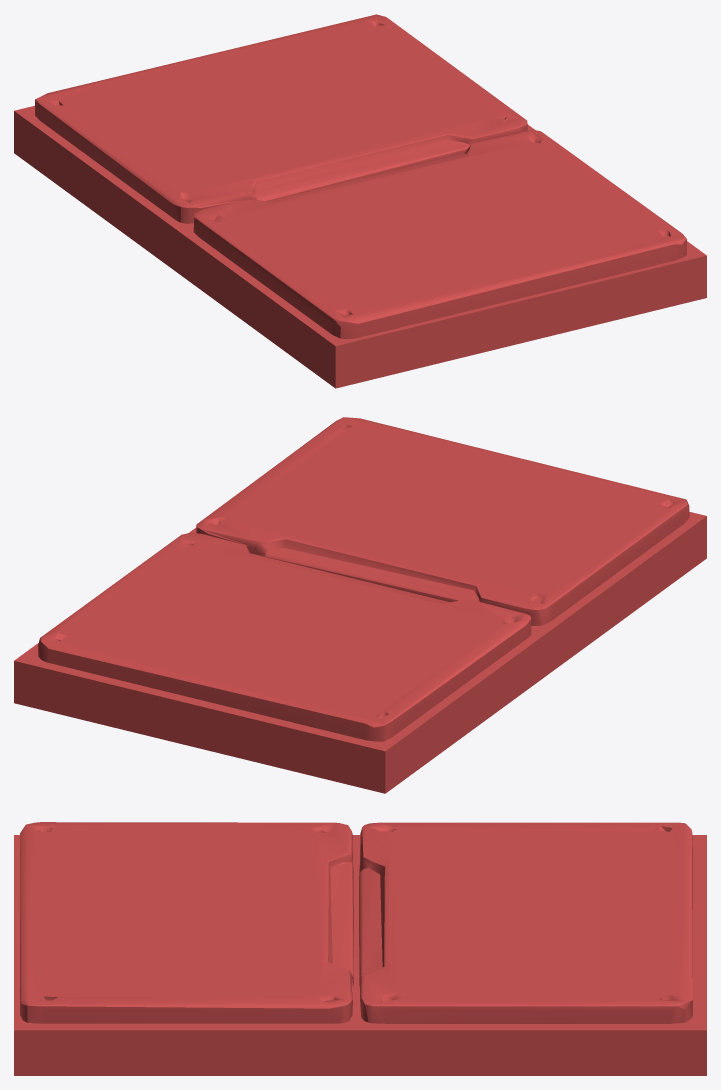
Rendered from Final_ComplexWall_3x2_02.FBX.
3 views of the same model, one above another, from view 1: azimuth 30°, elevation 25°; view 2: azimuth 150°, elevation 25°; view 3: azimuth 270°, elevation 25° (orthographic). The views are drawn at different scales.
Visible parts, largest first — view 1: Final_ComplexWall_3x2_02; view 2: Final_ComplexWall_3x2_02; view 3: Final_ComplexWall_3x2_02.
Boxes of the visible parts, x1,y1,x2,y2 form: Final_ComplexWall_3x2_02: (14,14,706,388); Final_ComplexWall_3x2_02: (14,417,706,793); Final_ComplexWall_3x2_02: (14,822,706,1075).
Bounding box in the file's own units: 200 × 300 × 30.67.
